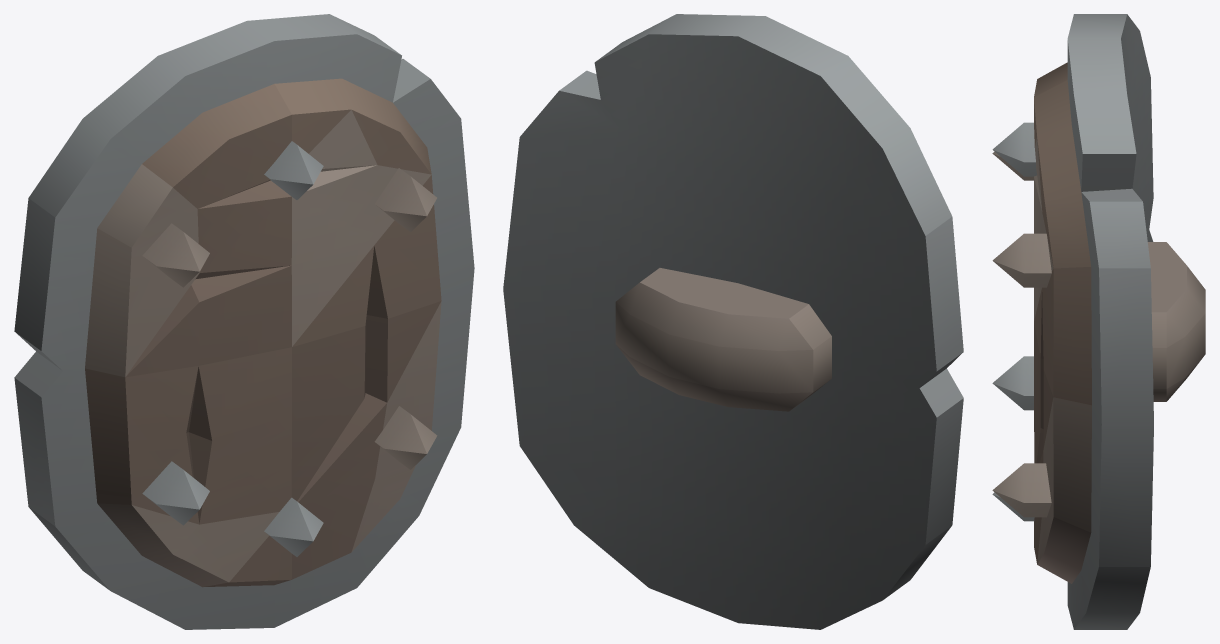
File: Shield.glb
3 views of the same model, side by side, from view 1: azimuth 30°, elevation 25°; view 2: azimuth 150°, elevation 25°; view 3: azimuth 270°, elevation 25° (orthographic). The views are drawn at different scales.
Parts seen in each view (by area): view 1: Skeleton_Shield_Large_B; view 2: Skeleton_Shield_Large_B; view 3: Skeleton_Shield_Large_B.
Part boxes in pixels (box(x1,y1,x2,y2)): Skeleton_Shield_Large_B: box(14, 14, 474, 629); Skeleton_Shield_Large_B: box(503, 14, 963, 629); Skeleton_Shield_Large_B: box(992, 14, 1205, 629).
Bounding box in the file's own units: 0.8771 × 1.13 × 0.387.
1 material, 1 textured.
